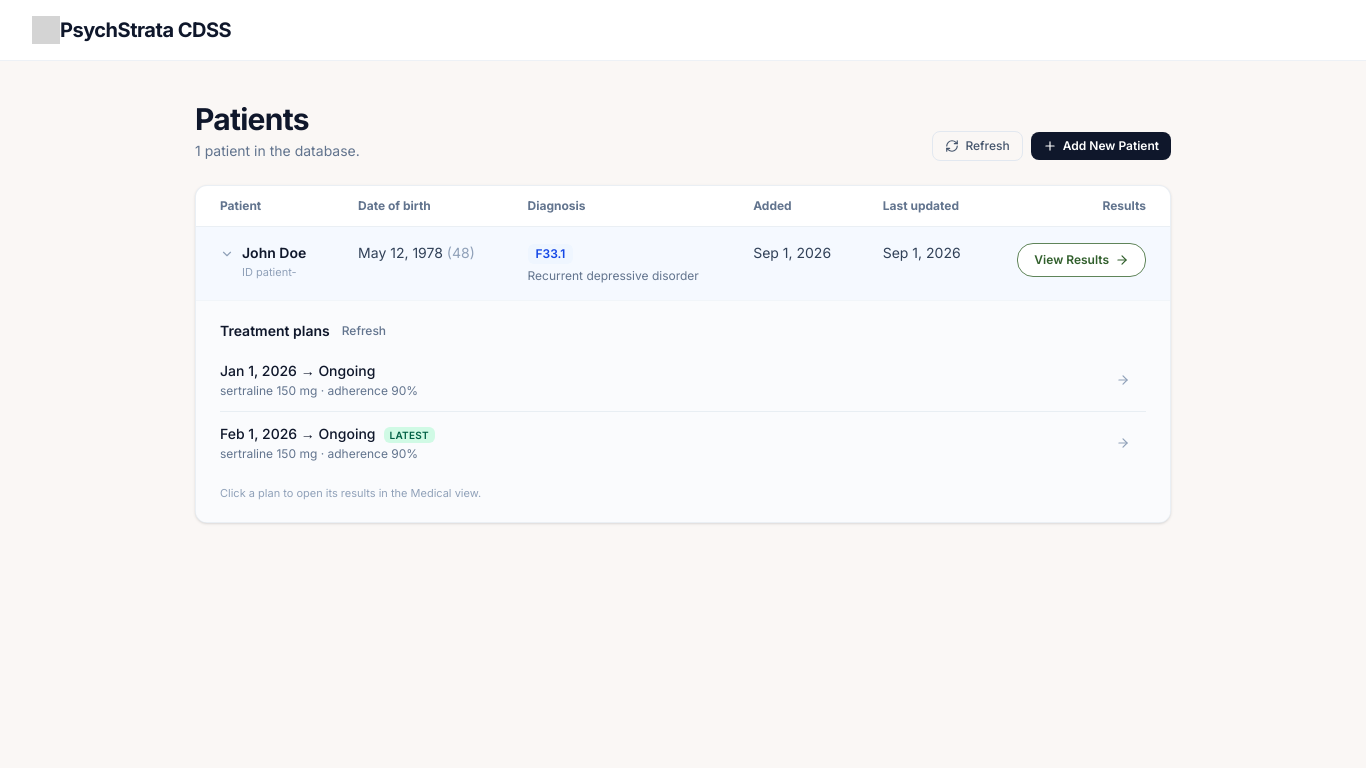
Scenario: PatientListView › collapses the row details when the row is clicked again
Expected: the heading "Treatment plans" is shown, top-left (220, 321), bottom-right (330, 341)
Click the text "John Doe". click: (274, 253)
box: top-left (242, 243), bottom-right (306, 263)
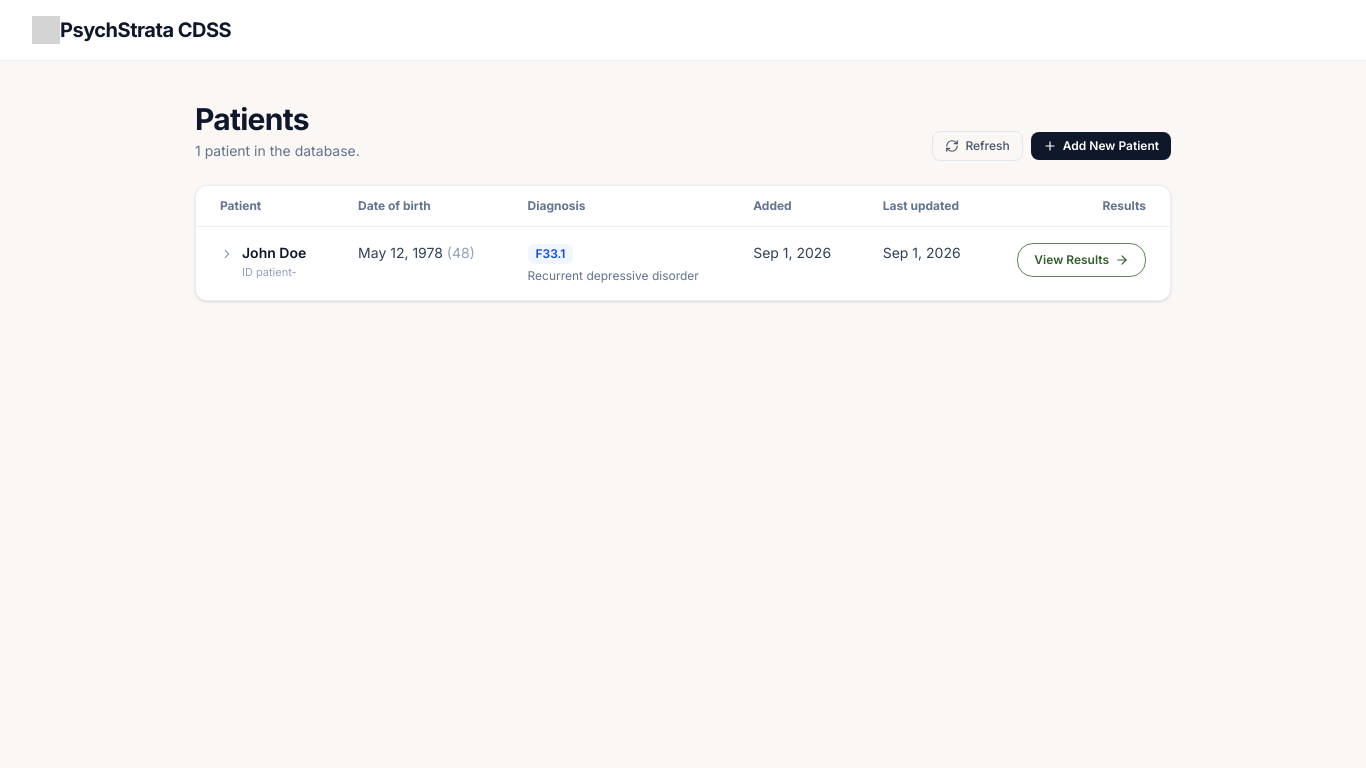
Expected: the heading "Treatment plans" is gone
